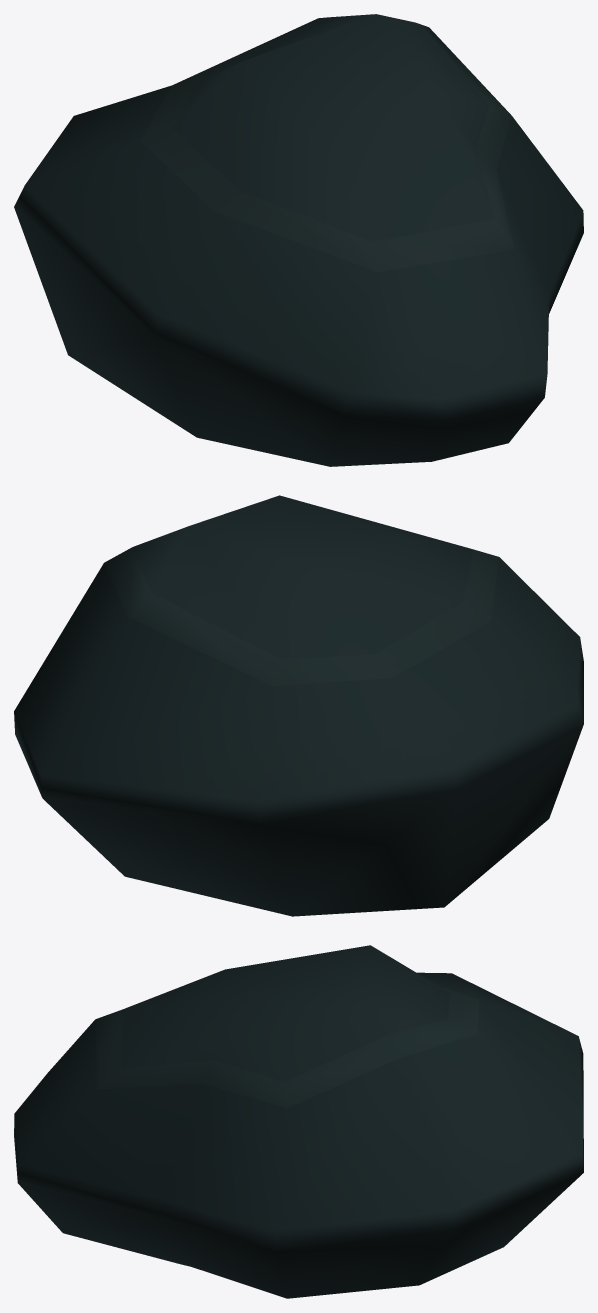
File: coal_ore_M.fbx
3 views of the same model, one above another, from view 1: azimuth 30°, elevation 25°; view 2: azimuth 150°, elevation 25°; view 3: azimuth 270°, elevation 25° (orthographic). The views are drawn at different scales.
Parts seen in each view (by area): view 1: coal_ore_M; view 2: coal_ore_M; view 3: coal_ore_M.
Boxes of the visible parts, x1,y1,x2,y2 form: coal_ore_M: [14, 14, 583, 466]; coal_ore_M: [14, 495, 583, 916]; coal_ore_M: [14, 945, 583, 1298].
Size of the model in its own units: 44.27 by 30.65 by 52.35.
1 material, 1 textured.
